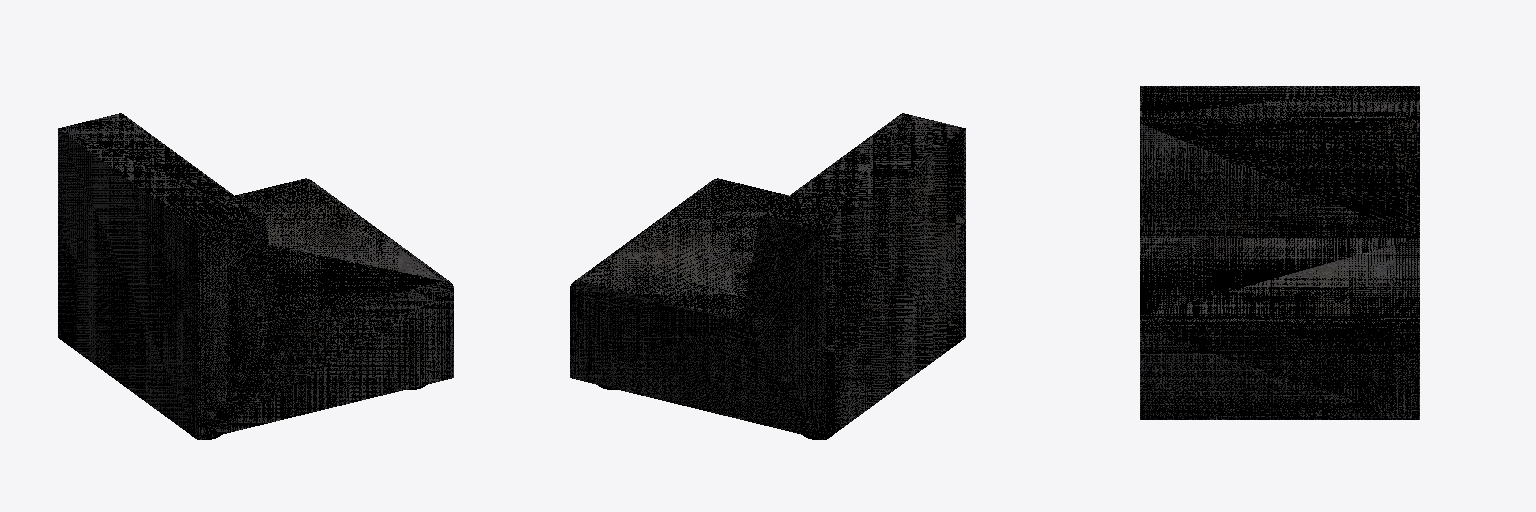
3 renders of one model, left to right at view 1: azimuth 30°, elevation 25°; view 2: azimuth 150°, elevation 25°; view 3: azimuth 270°, elevation 25°, orthographic.
Visible parts, largest first — view 1: mesh1_mesh1-geometry; view 2: mesh1_mesh1-geometry; view 3: mesh1_mesh1-geometry.
Part boxes in pixels (x1,y1,x2,y2): mesh1_mesh1-geometry: (58,113,453,439); mesh1_mesh1-geometry: (570,113,965,439); mesh1_mesh1-geometry: (1140,86,1419,419).
Bounding box in the file's own units: 0.6267 × 0.5039 × 0.5944.
Materials: 2 (1 with a texture image).